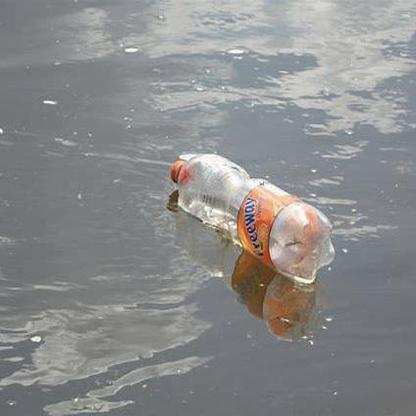plastic bottle: (168, 154, 335, 283)
